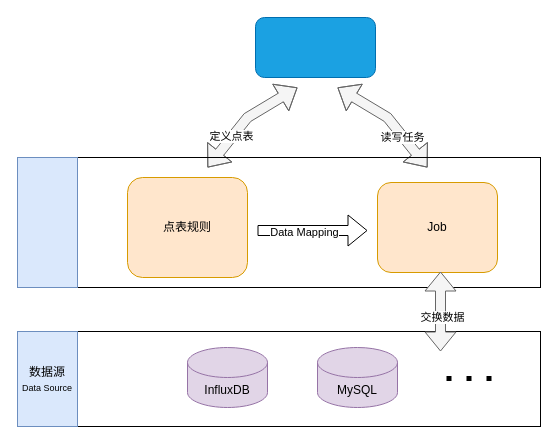
The diagram is 558 pixels wide and 444 high, and some of its shapes have lost their labels. The shapes that lost their labels are listed below. From the top down, each one's centre as x and y in pixels, then its label:
the point at 315,47: MQTT Broken
the point at 47,222: 点表 规则 统一 交换 服务
